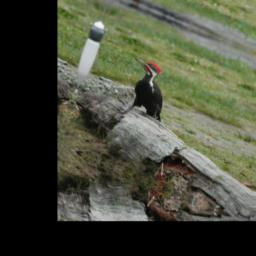Woodpecker: (117, 52, 179, 126)
